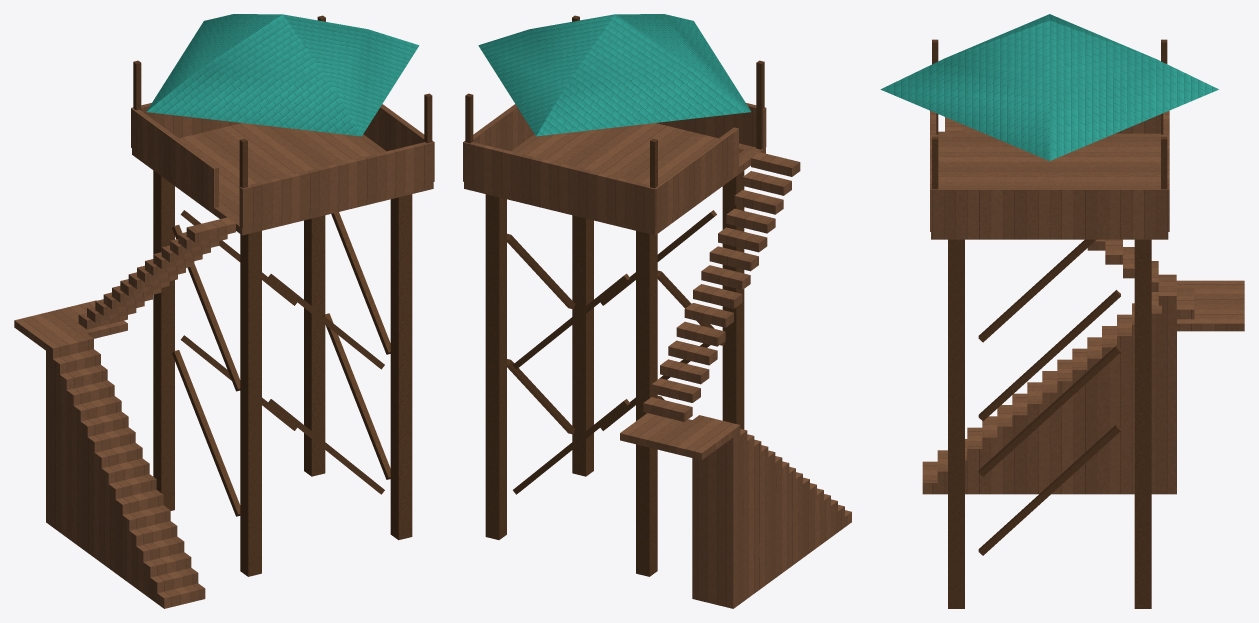
The model's file is env_tower.glb.
3 views of the same model, side by side, from view 1: azimuth 30°, elevation 25°; view 2: azimuth 150°, elevation 25°; view 3: azimuth 270°, elevation 25° (orthographic). The views are drawn at different scales.
Parts seen in each view (by area): view 1: env_tower; view 2: env_tower; view 3: env_tower.
Boxes of the visible parts, bbox=[...] form: env_tower: bbox=[14, 14, 434, 608]; env_tower: bbox=[463, 14, 851, 608]; env_tower: bbox=[880, 14, 1244, 608].
Size of the model in its own units: 9.2 by 14.2 by 8.6.
Materials: 3 (3 with a texture image).
